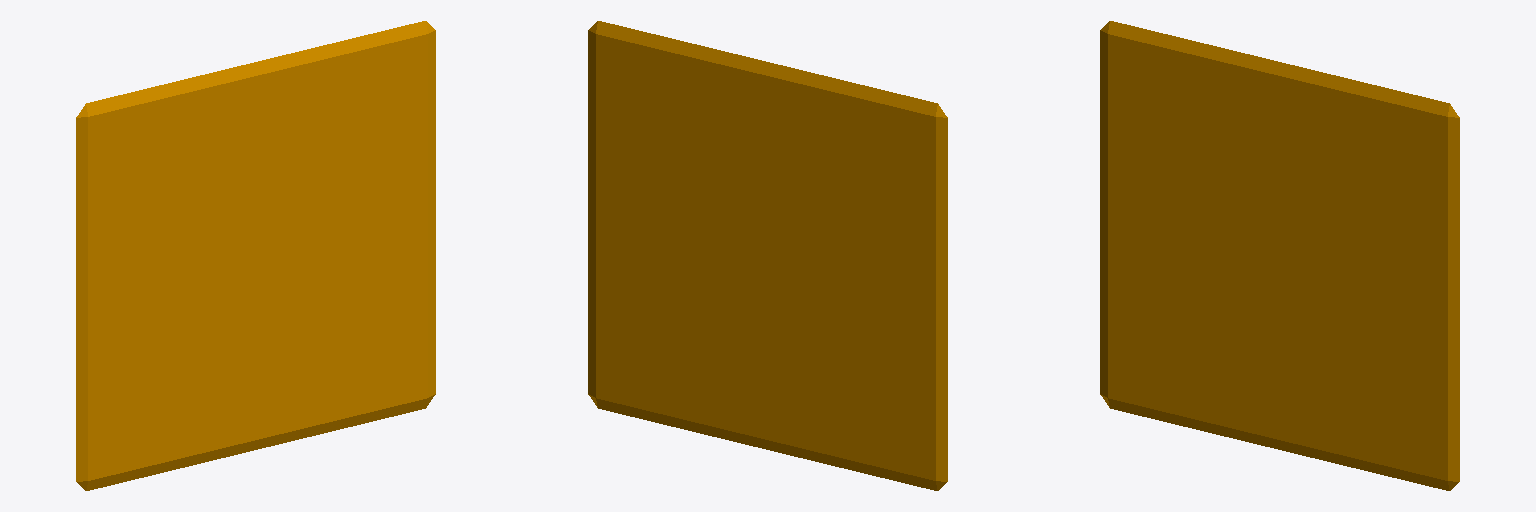
URDF robot description (indenter):
<robot name="indenter">
	<!-- <link name="world">
        </link> -->

        <!-- <joint name="world_to_indenter" type="prismatic">
                <parent link="world"/>
                <child link="indenter"/>
                <origin rpy="0.0 0.0 0.0" xyz="0.0 0.0 0.0"/>
                <axis xyz="0 1 0"/>
                <dynamics damping="0.0" friction="0.0"/>
                <limit lower="0.0" upper="0.1" velocity="1e9" effort="1e9"/>
        </joint> -->

	<link name="indenter">
		<visual>
			<origin rpy="0.0 0.0 0.0" xyz="0.0 0.0 0.0"/>
			<geometry>
				<mesh filename="../../meshes/target_objects/platform.obj"/>
			</geometry>
		</visual>
		<collision>
			<origin rpy="0.0 0.0 0.0" xyz="0.0 0.0 0.0"/>
			<geometry>
				<mesh filename="../../meshes/target_objects/platform.obj"/>
			</geometry>
		</collision>
		<inertial>
			<origin rpy="0.0 0.0 0.0" xyz="0.0 -8.64389e-3 0.0"/>
			<mass value="0.00224114"/>
			<inertia ixx="6.25553e-8" iyy="4.07645e-8" izz="6.25353e-8" ixy="0.0" ixz="4.69820e-15" iyz="0.0"/>
		</inertial>
	</link>
</robot>

--- Render facts (derived) ---
3 views of the same robot in one strip: view 1: azimuth 30°, elevation 25°; view 2: azimuth 150°, elevation 25°; view 3: azimuth 330°, elevation 25° (orthographic).
Model indenter with 1 links and 0 joints (none), rooted at indenter, posed every joint at zero.
Links seen in each view (by area): view 1: indenter; view 2: indenter; view 3: indenter.
Link boxes in pixels (left/top/right/bottom): indenter: left=76, top=21, right=435, bottom=490; indenter: left=588, top=21, right=947, bottom=490; indenter: left=1100, top=21, right=1459, bottom=490.
Size in the robot's own frame: 0.2358 by 0.005 by 0.2433 metres.
Meshes: 1 distinct files referenced, 1 mesh visuals loaded (1 OBJ).